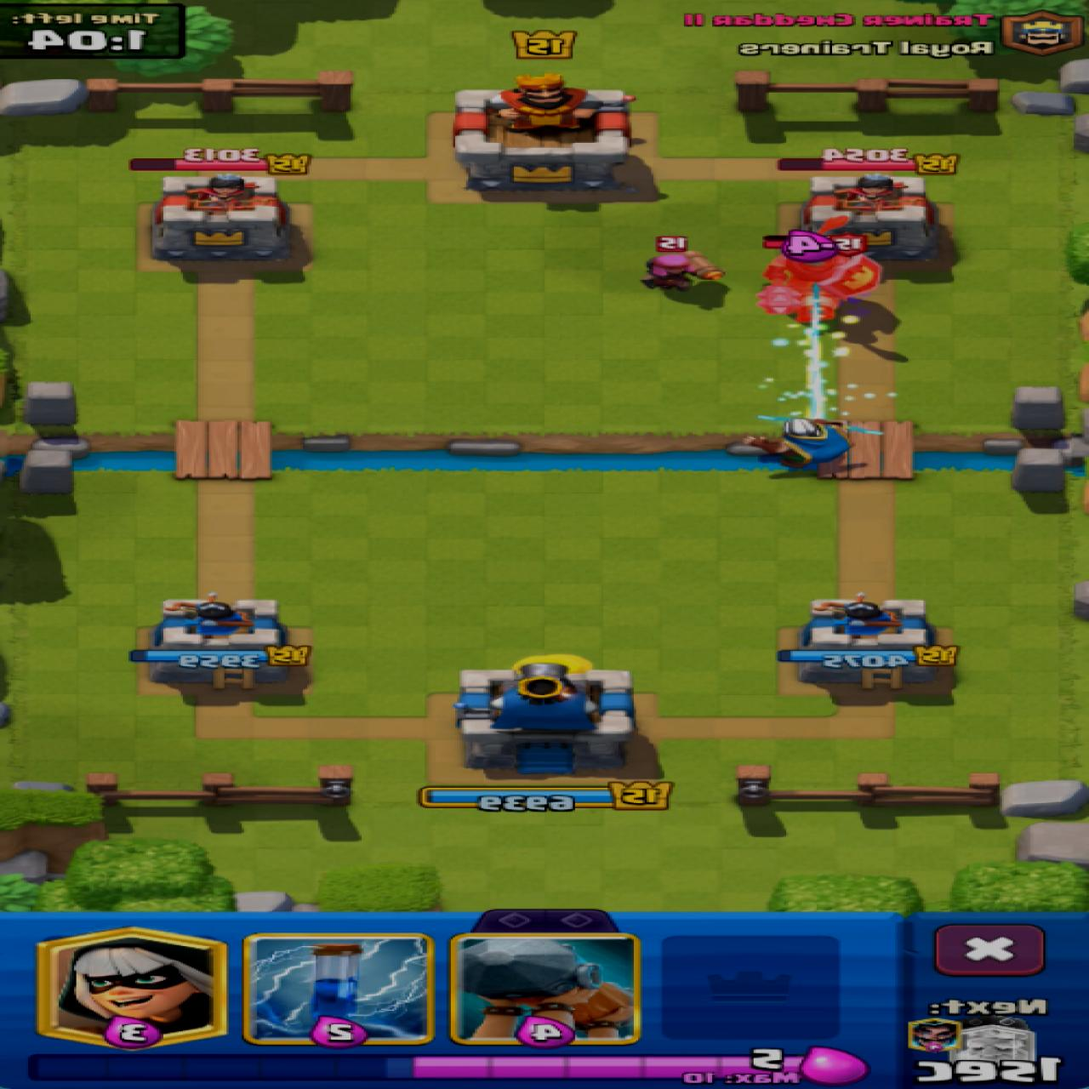Enemy-DarkPrince-Shield: (760, 230, 882, 323)
Enemy-Firecracker: (645, 253, 721, 291)
Enemy-KingTower: (455, 74, 629, 190)
Enemy-PrincessTower: (799, 174, 939, 260), (155, 173, 290, 261)
